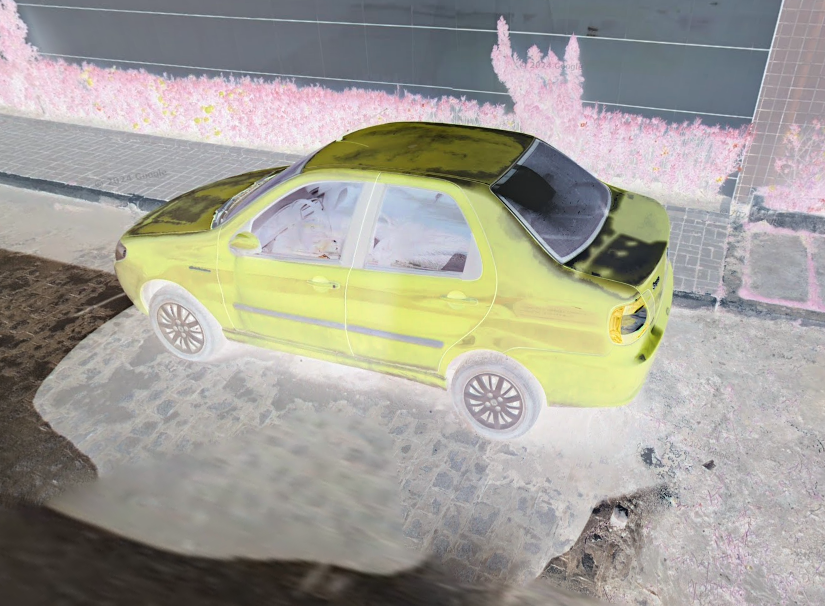car: (113, 118, 677, 445)
